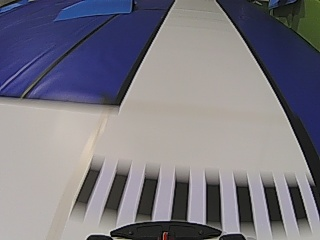CrossWalk: (87, 182, 303, 218)
